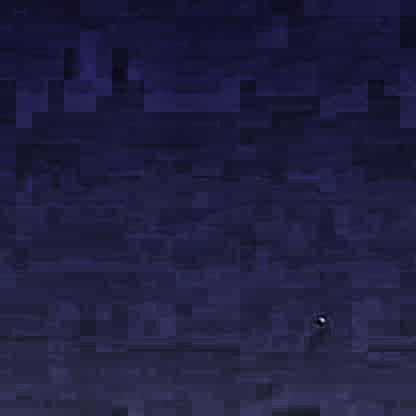golfball: (314, 314, 321, 321)
